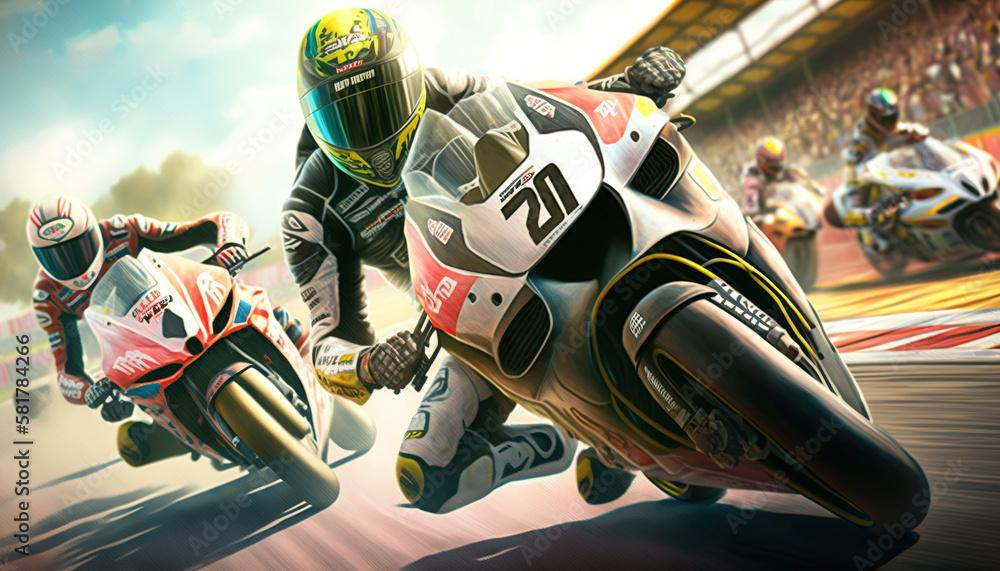helmet: (295, 6, 428, 189), (25, 190, 105, 292), (863, 86, 900, 136), (755, 135, 789, 183)
